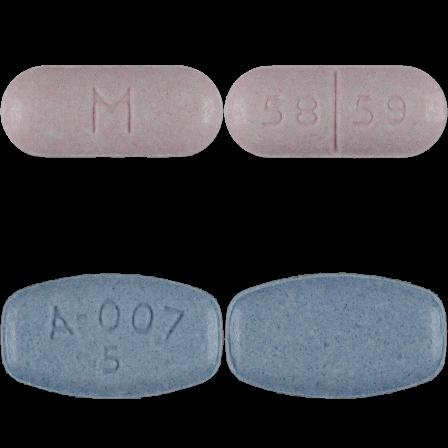52959-596: (0, 0, 224, 224)
